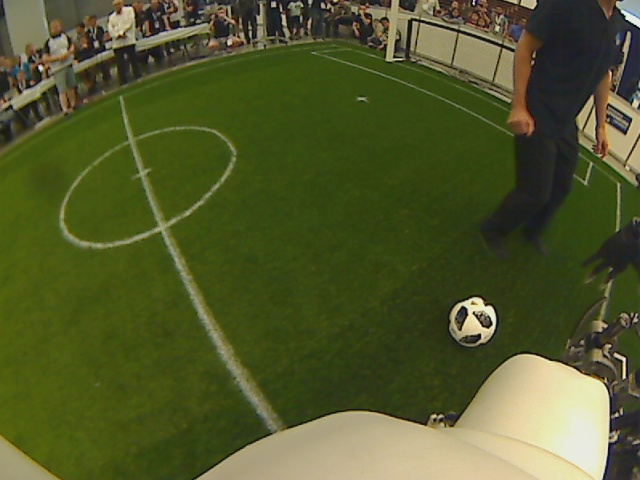ball: (447, 295, 499, 348)
